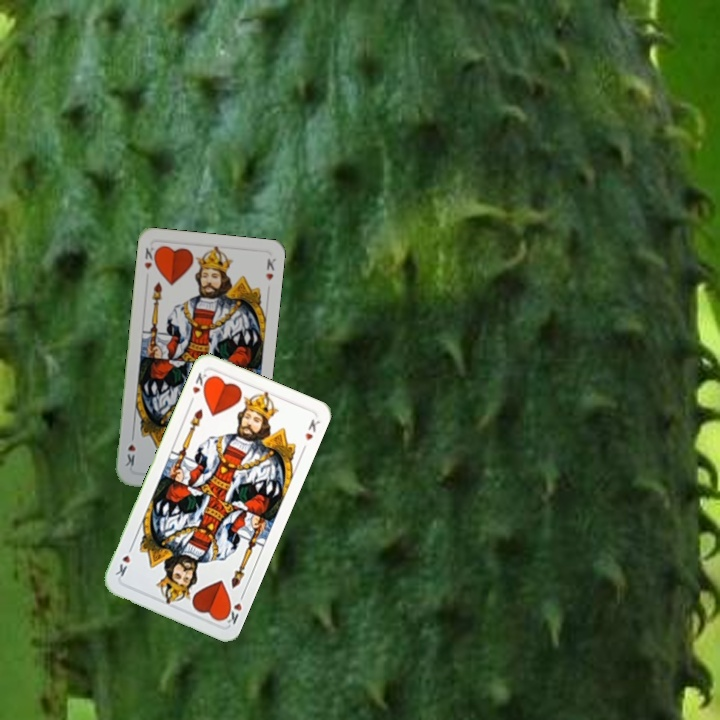HK: (219, 589, 247, 627), (188, 368, 212, 396), (140, 243, 160, 272)
